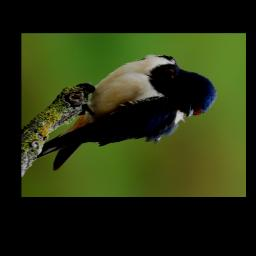Swallow: (33, 53, 218, 172)
